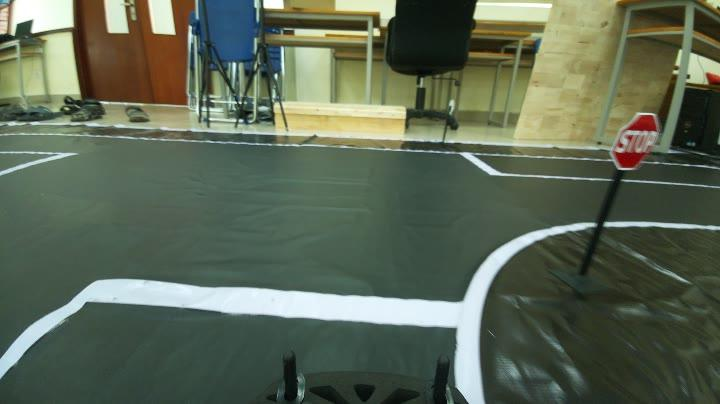stop: (609, 106, 661, 175)
